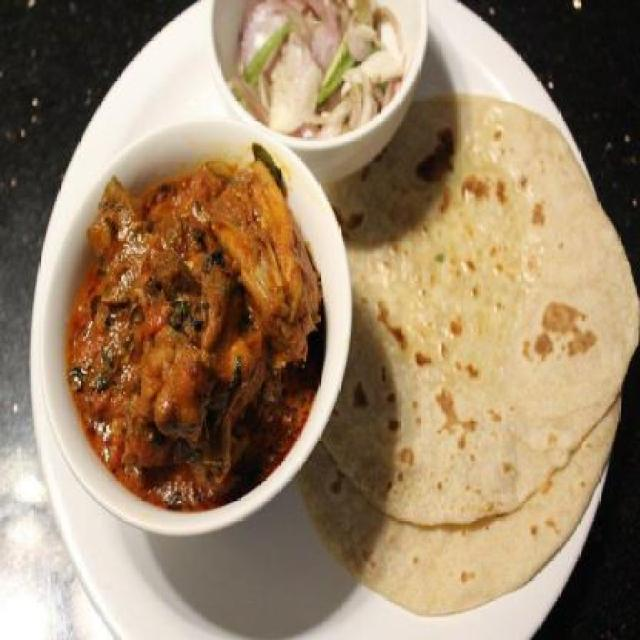chapati: (321, 94, 640, 528), (295, 394, 622, 614)
